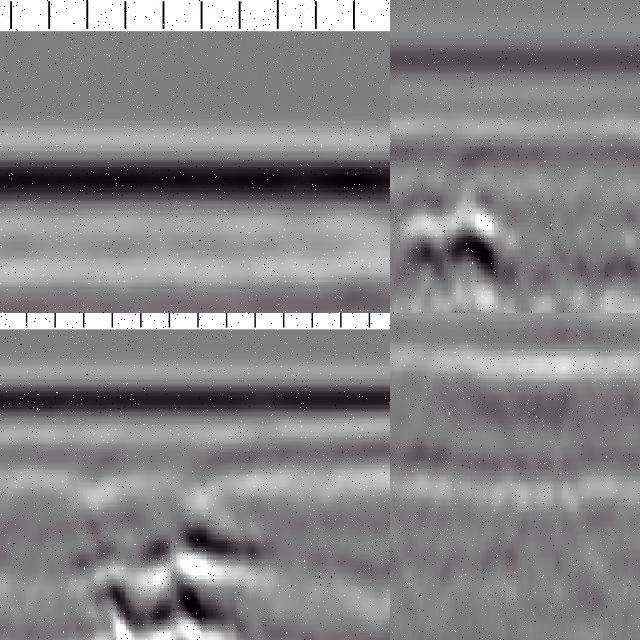loose: (66, 503, 271, 640), (403, 201, 506, 314)
